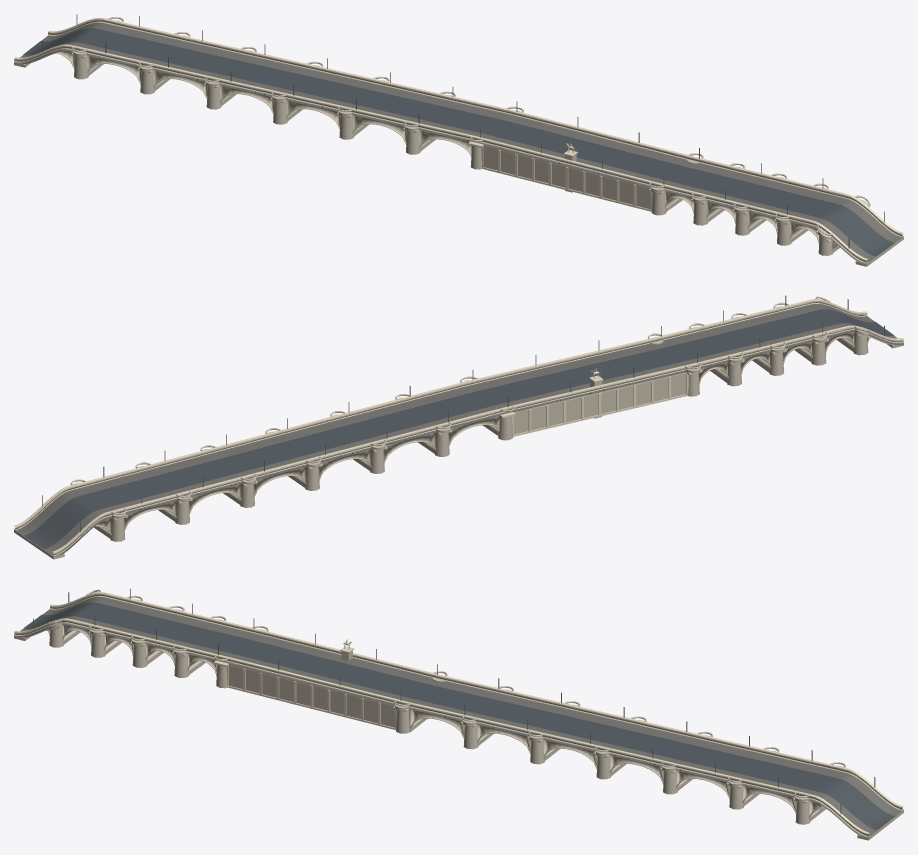
The model's file is paris-pont-neuf-far.glb.
3 renders of one model, top to bottom at view 1: azimuth 90°, elevation 25°; view 2: azimuth 150°, elevation 25°; view 3: azimuth 270°, elevation 25°, orthographic.
Visible parts, largest first — view 1: paris-pont-neuf-stone, paris-pont-neuf-asphalt, paris-pont-neuf-deck, paris-pont-neuf-trim; view 2: paris-pont-neuf-stone, paris-pont-neuf-asphalt, paris-pont-neuf-deck, paris-pont-neuf-trim; view 3: paris-pont-neuf-stone, paris-pont-neuf-asphalt, paris-pont-neuf-deck, paris-pont-neuf-trim.
Boxes of the visible parts, x1,y1,x2,y2 form: paris-pont-neuf-stone: (14, 17, 903, 266); paris-pont-neuf-asphalt: (23, 28, 894, 256); paris-pont-neuf-deck: (14, 22, 903, 265); paris-pont-neuf-trim: (14, 17, 903, 263); paris-pont-neuf-stone: (14, 296, 903, 559); paris-pont-neuf-asphalt: (24, 309, 894, 549); paris-pont-neuf-deck: (14, 304, 903, 556); paris-pont-neuf-trim: (14, 299, 903, 556); paris-pont-neuf-stone: (14, 589, 903, 840); paris-pont-neuf-asphalt: (24, 602, 894, 830); paris-pont-neuf-deck: (14, 597, 903, 837); paris-pont-neuf-trim: (14, 592, 903, 837).
Bounding box in the file's own units: 153 × 14.92 × 250.
